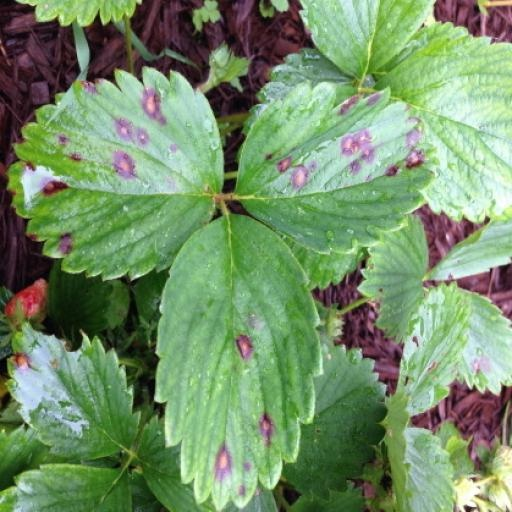Leaf Spot: (190, 1, 361, 298), (286, 228, 505, 446), (77, 258, 278, 435), (370, 52, 508, 192), (39, 97, 117, 231), (0, 115, 55, 224), (0, 230, 90, 296)
Powdery Mildew Fruit: (463, 179, 508, 234)
